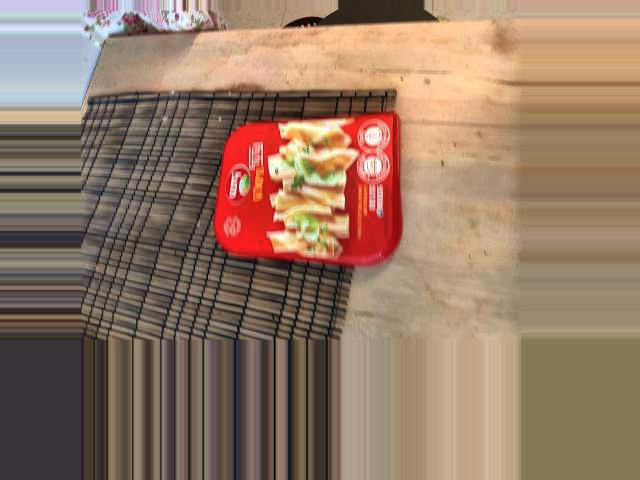cheese: (169, 145, 301, 320)
